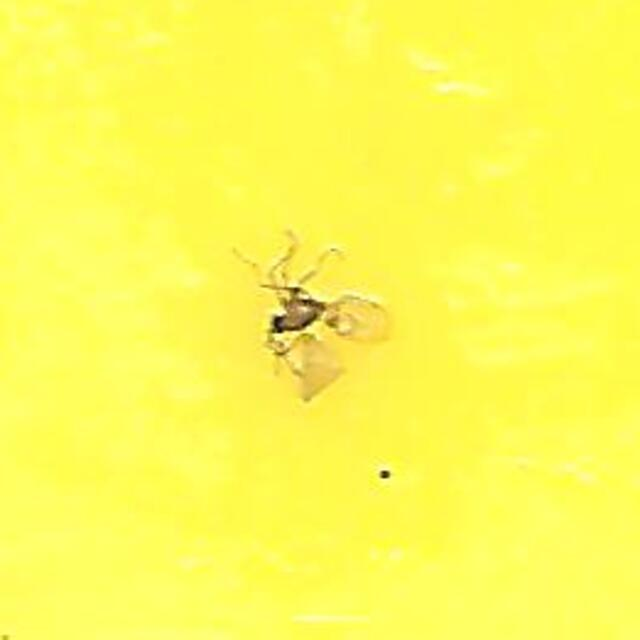Nematocera: (245, 242, 395, 398)
